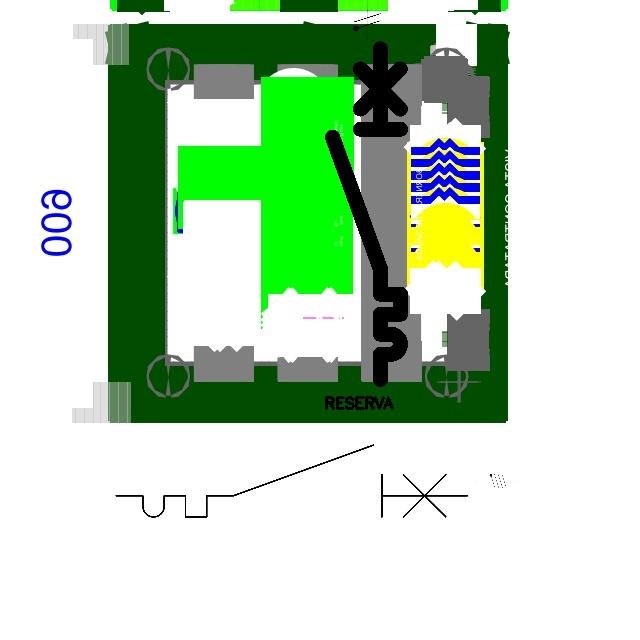interruptor_termomagnetico: (107, 436, 476, 526), (324, 40, 409, 388)
